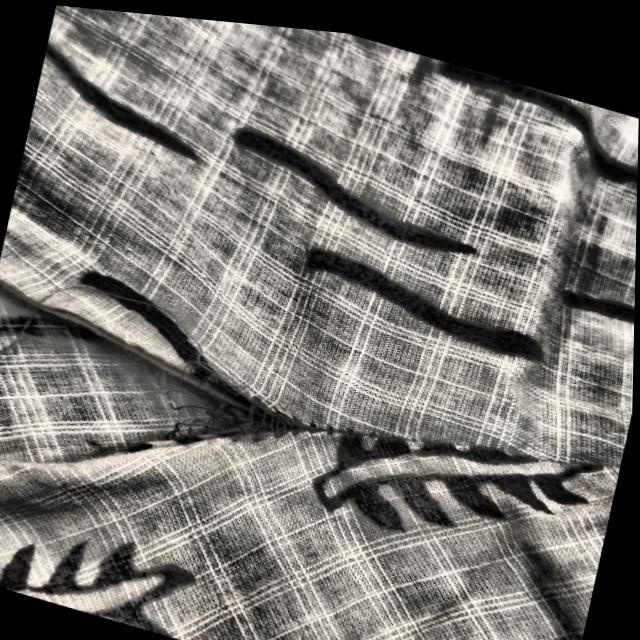Stitch: (0, 229, 357, 536)
